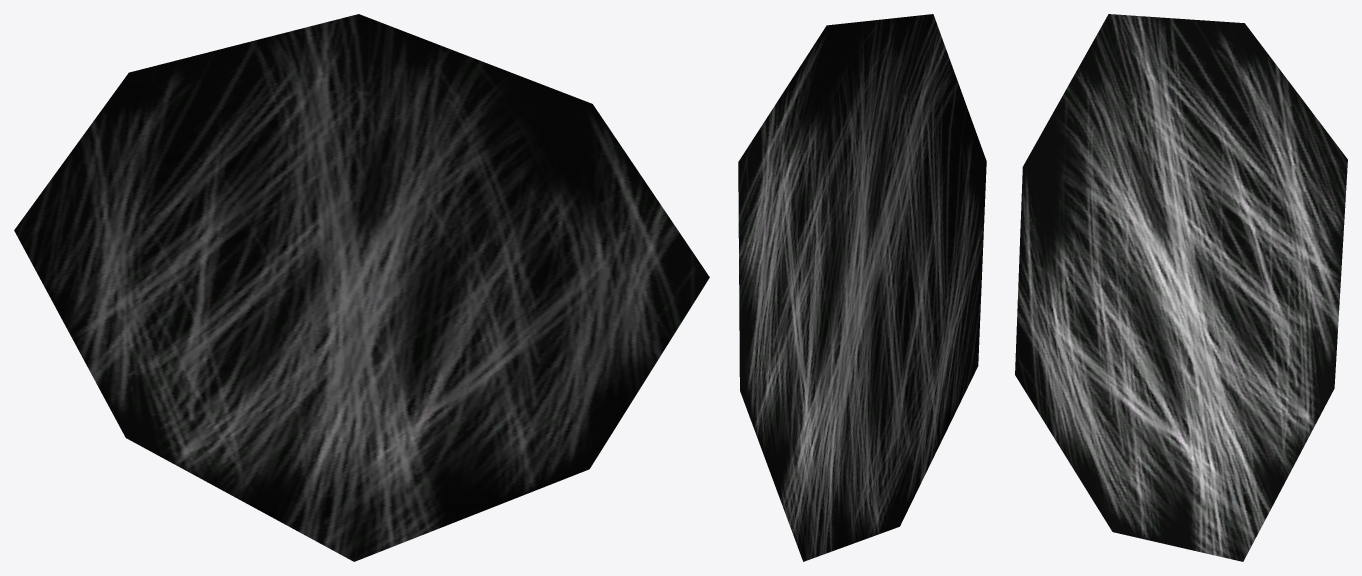
File: MIRKWOOD_SPIDERWEB_COVERS19.fbx
The picture shows the model from 3 angles, left to right: view 1: azimuth 30°, elevation 25°; view 2: azimuth 150°, elevation 25°; view 3: azimuth 270°, elevation 25°; orthographic projection. The views are drawn at different scales.
Visible parts, largest first — view 1: MIRKWOOD_SPIDERWEB_COVERS19; view 2: MIRKWOOD_SPIDERWEB_COVERS19; view 3: MIRKWOOD_SPIDERWEB_COVERS19.
Boxes of the visible parts, x1,y1,x2,y2 form: MIRKWOOD_SPIDERWEB_COVERS19: [14, 14, 709, 561]; MIRKWOOD_SPIDERWEB_COVERS19: [738, 14, 986, 561]; MIRKWOOD_SPIDERWEB_COVERS19: [1015, 14, 1347, 561].
Bounding box in the file's own units: 12771 × 15473 × 9032.
Materials: 1 (1 with a texture image).
